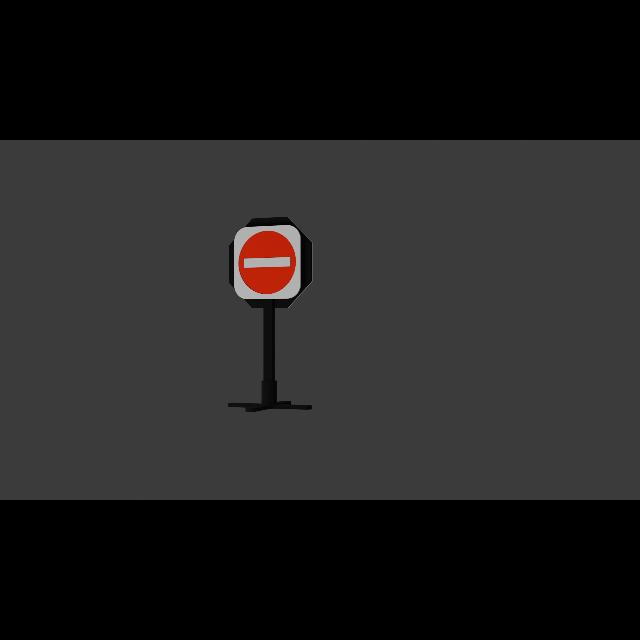sign_noentry: (235, 227, 302, 302)
